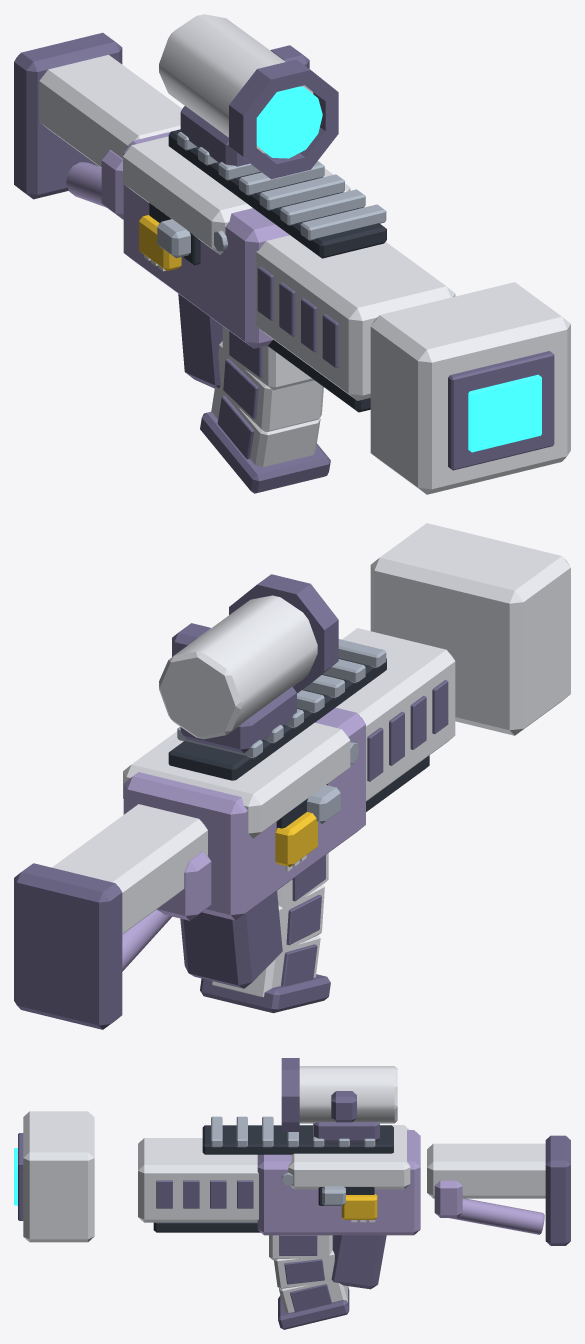
Rendered from Future_Rifle_v001.fbx.
3 views of the same model, one above another, from view 1: azimuth 30°, elevation 25°; view 2: azimuth 150°, elevation 25°; view 3: azimuth 270°, elevation 25° (orthographic). The views are drawn at different scales.
Visible parts, largest first — view 1: Future_Rifle__RECEIVER_MESH, Future_Rifle__MAGAZINE_MESH; view 2: Future_Rifle__RECEIVER_MESH, Future_Rifle__MAGAZINE_MESH; view 3: Future_Rifle__RECEIVER_MESH, Future_Rifle__MAGAZINE_MESH.
Part boxes in pixels (left/top/right/bottom): Future_Rifle__RECEIVER_MESH: left=14, top=14, right=570, bottom=494; Future_Rifle__MAGAZINE_MESH: left=200, top=326, right=330, bottom=493; Future_Rifle__RECEIVER_MESH: left=14, top=523, right=570, bottom=1029; Future_Rifle__MAGAZINE_MESH: left=200, top=853, right=330, bottom=1013; Future_Rifle__RECEIVER_MESH: left=14, top=1058, right=570, bottom=1289; Future_Rifle__MAGAZINE_MESH: left=269, top=1235, right=349, bottom=1329.
Size of the model in its own units: 0.475 by 1.11 by 2.19.
